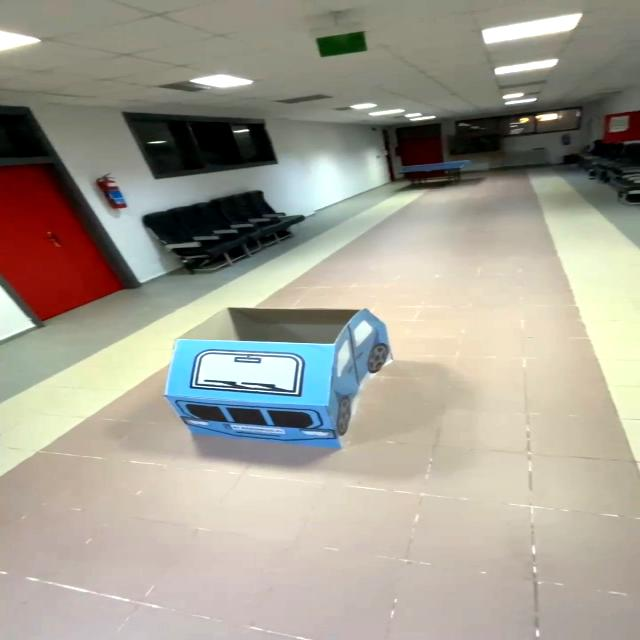blue_car: (150, 290, 406, 481)
